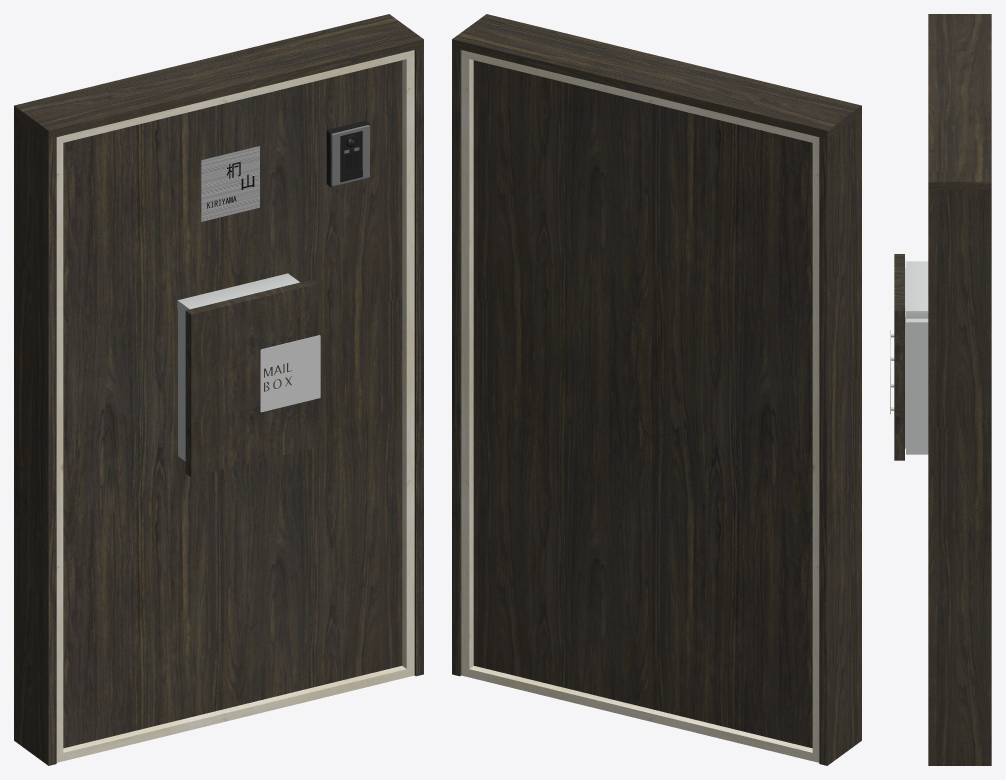
File: ab3-m_blackebony.fbx
3 views of the same model, side by side, from view 1: azimuth 30°, elevation 25°; view 2: azimuth 150°, elevation 25°; view 3: azimuth 270°, elevation 25° (orthographic). The views are drawn at different scales.
Visible parts, largest first — view 1: ab3-m_blackebony; view 2: ab3-m_blackebony; view 3: ab3-m_blackebony.
Boxes of the visible parts, x1,y1,x2,y2 form: ab3-m_blackebony: (14,14,423,765); ab3-m_blackebony: (452,14,861,765); ab3-m_blackebony: (890,14,991,765).
Bounding box in the file's own units: 94 × 152 × 23.97.
Materials: 10 (7 with a texture image).
